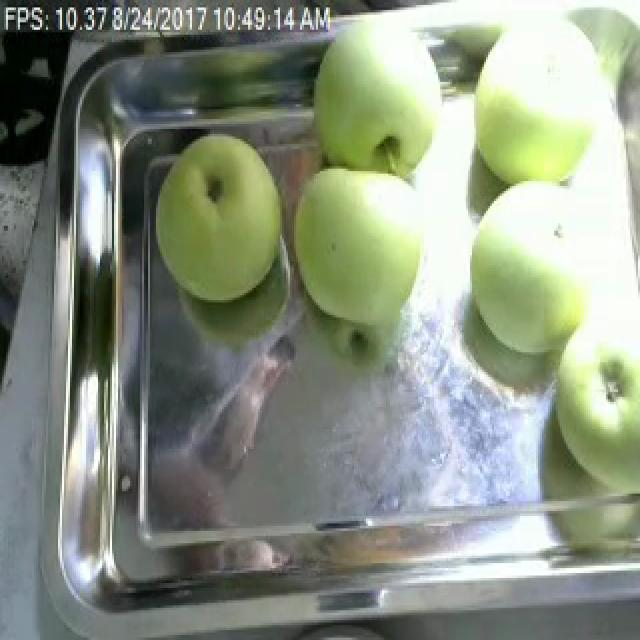50-_ripeness: (287, 151, 422, 335), (156, 133, 285, 314), (310, 14, 454, 172), (472, 9, 608, 175), (456, 185, 594, 341), (550, 307, 634, 517)
